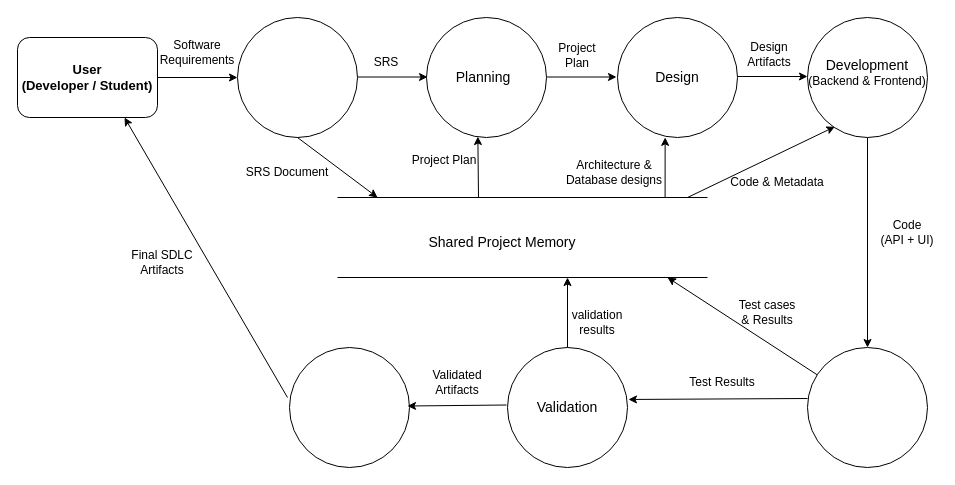
Some shapes in this 955 by 485 pixel diagram are drawn without their labels. The centre of each missing label's shape, as x and y in pixels:
Documentation: point 349,407
Requirement processing: point 297,77
Testing: point 867,407
